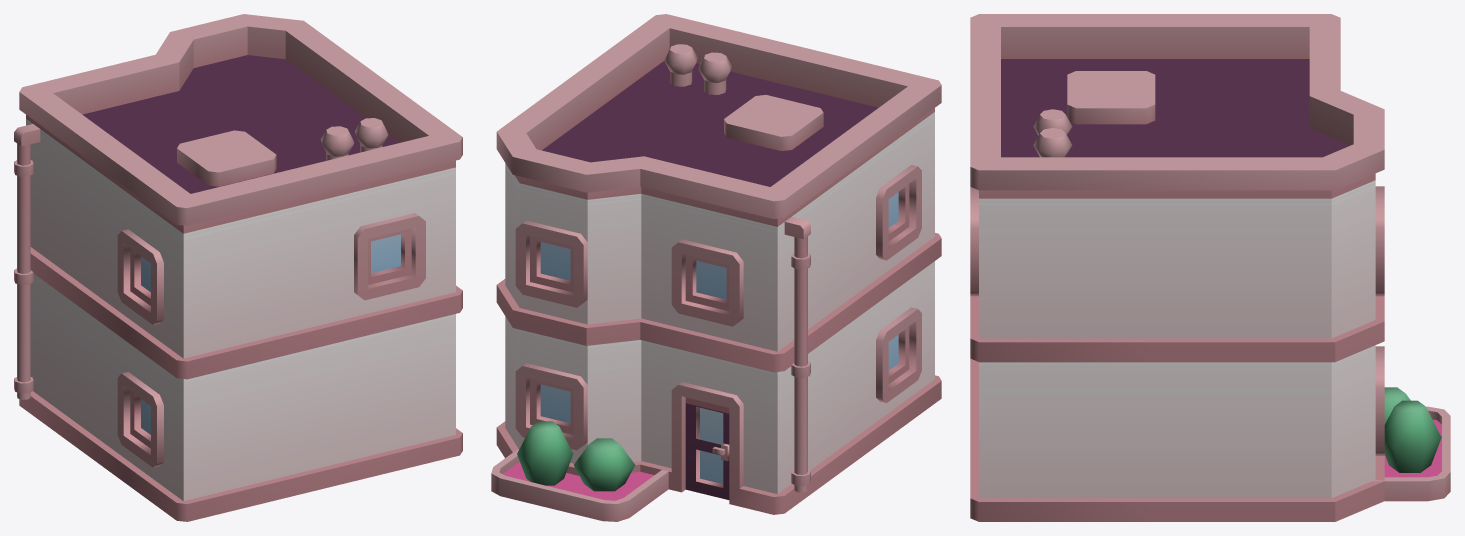
Rendered from store_2story_big.obj.
The picture shows the model from 3 angles, left to right: view 1: azimuth 30°, elevation 25°; view 2: azimuth 150°, elevation 25°; view 3: azimuth 270°, elevation 25°; orthographic projection. The views are drawn at different scales.
Visible parts, largest first — view 1: building-c; view 2: building-c; view 3: building-c.
Boxes of the visible parts, <box> form: building-c: <box>14,14,462,521</box>; building-c: <box>491,14,941,521</box>; building-c: <box>970,14,1450,521</box>.
Bounding box in the file's own units: 17.67 × 17.86 × 21.8.
Materials: 1 (1 with a texture image).
